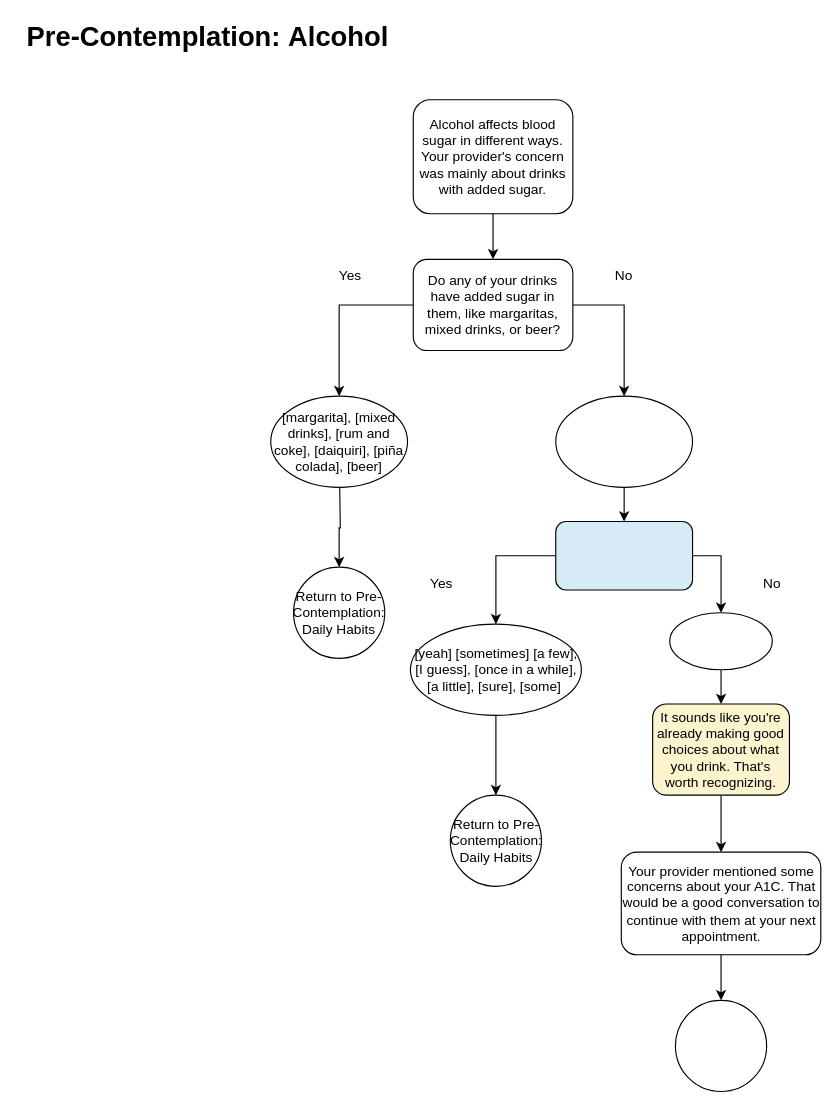
The diagram is 840 pixels wide and 1112 high, and some of its shapes have lost their labels. The box of each missing label's shape, as (x1, y1, x2, y2) in pixels:
[no] [not really] [none] [don't drink] [only diet]: (669, 612, 772, 670)
[wine], [straight liquor], [vodka soda], [whiskey], [no mixer]: (555, 395, 693, 487)
End: (674, 999, 767, 1092)
What about drinks with sugar in them? Do any of those come up during your day?: (555, 520, 693, 590)
